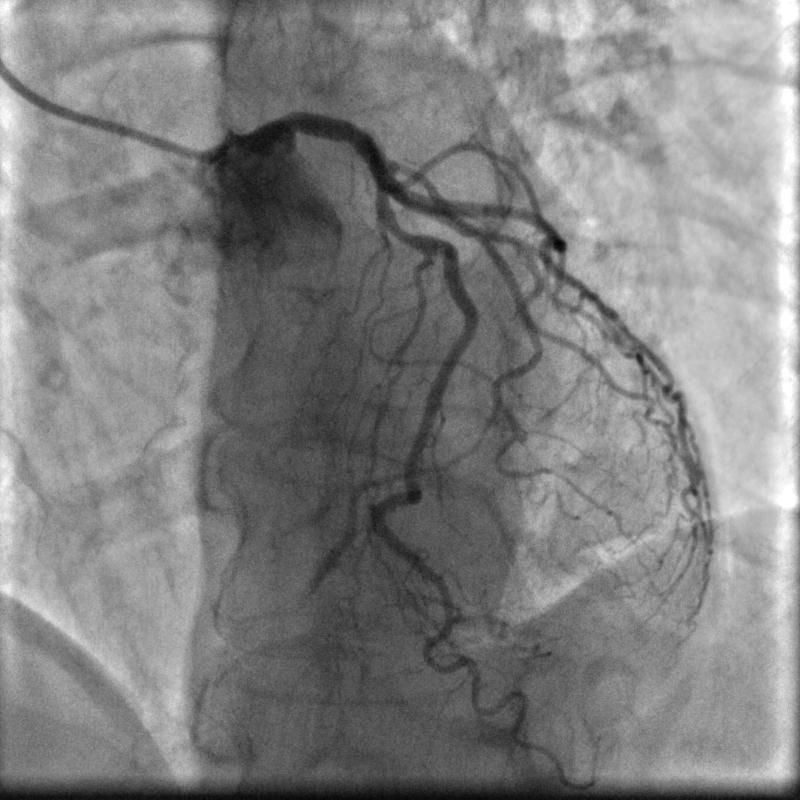Stenosis: (384, 219, 419, 242)
